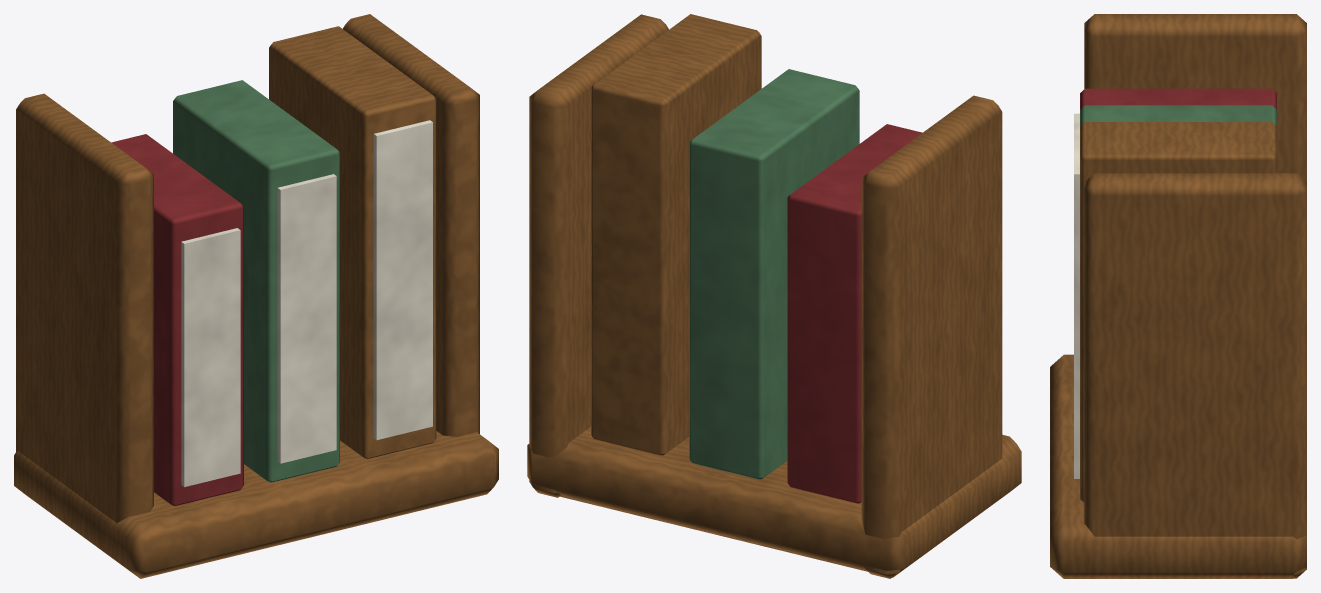
File: Furn_DecorCookStand.fbx
The picture shows the model from 3 angles, left to right: view 1: azimuth 30°, elevation 25°; view 2: azimuth 150°, elevation 25°; view 3: azimuth 270°, elevation 25°; orthographic projection.
Parts seen in each view (by area): view 1: Furn_DecorCookStand_Mesh; view 2: Furn_DecorCookStand_Mesh; view 3: Furn_DecorCookStand_Mesh.
Part boxes in pixels (<box>): Furn_DecorCookStand_Mesh: <box>14,14,498,578</box>; Furn_DecorCookStand_Mesh: <box>527,14,1021,578</box>; Furn_DecorCookStand_Mesh: <box>1050,14,1306,578</box>.
Size of the model in its own units: 0.25 by 0.26 by 0.15.
4 materials, 4 textured.
